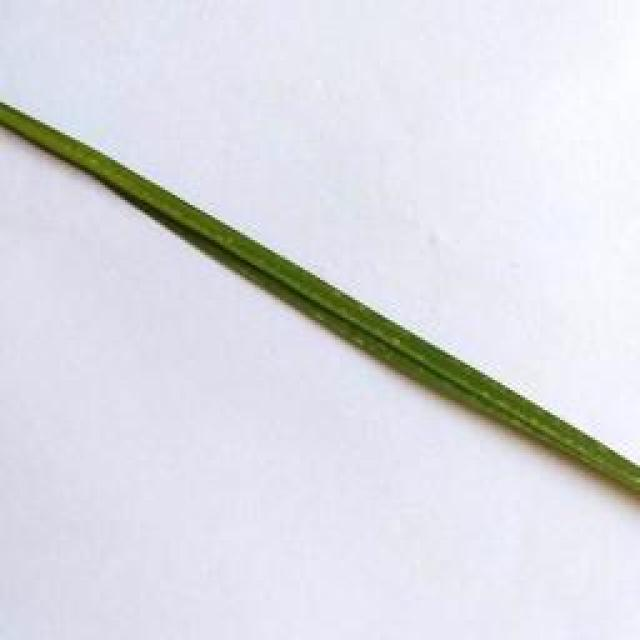Healthy-Plant: (0, 104, 640, 498)
